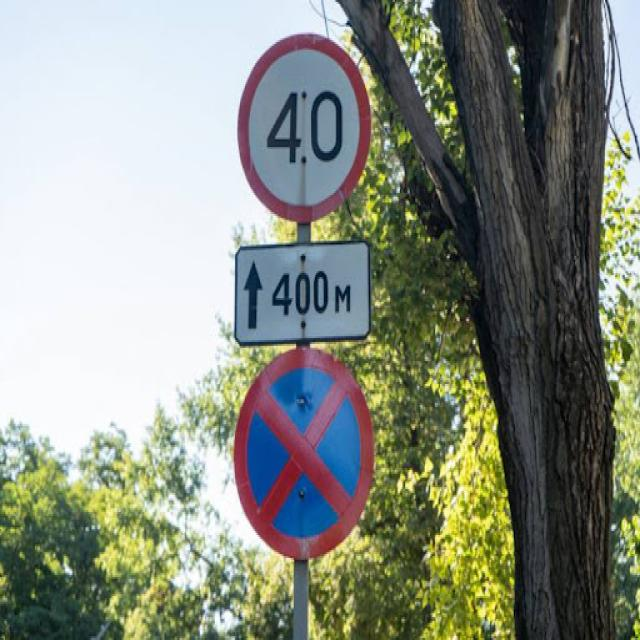Speed Limit -40-: (264, 84, 345, 172)
